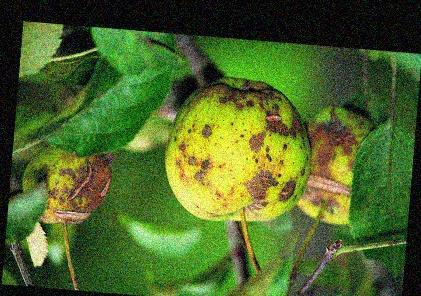rotten apple: (160, 75, 311, 223), (299, 104, 386, 230), (15, 138, 116, 225)
